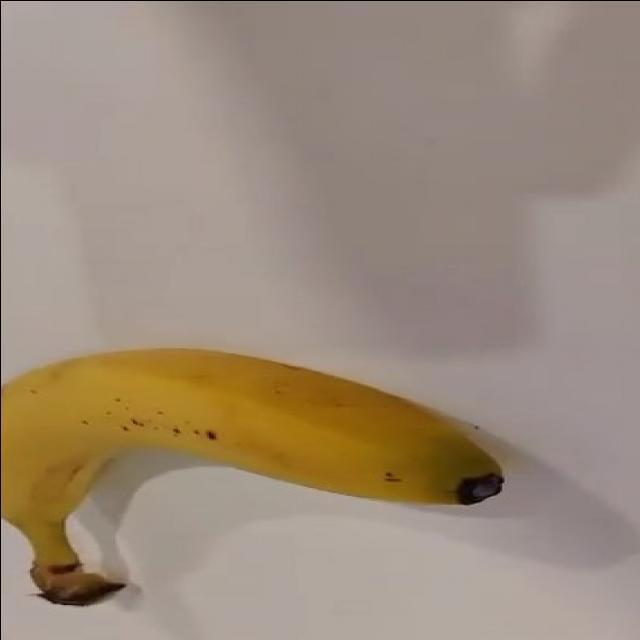Banana: (0, 343, 502, 584)
